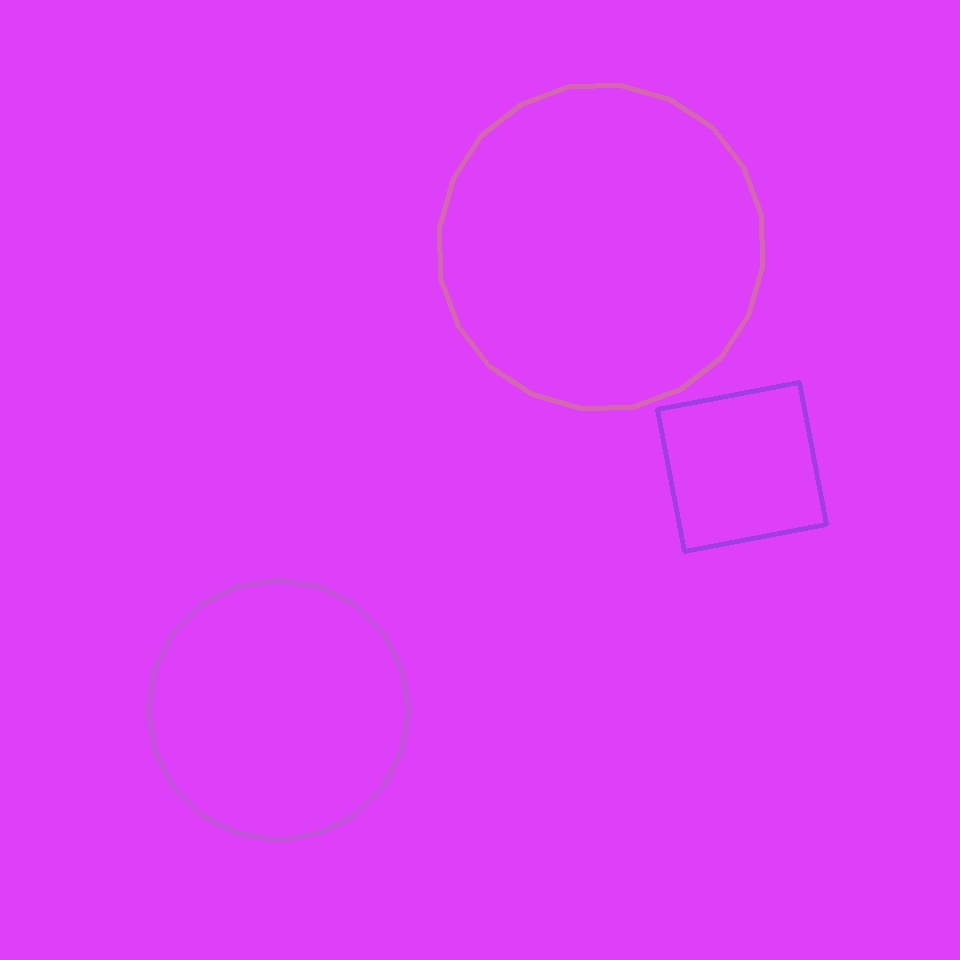square: (658, 382, 826, 552)
triangle: (440, 85, 762, 408), (148, 580, 408, 840)
